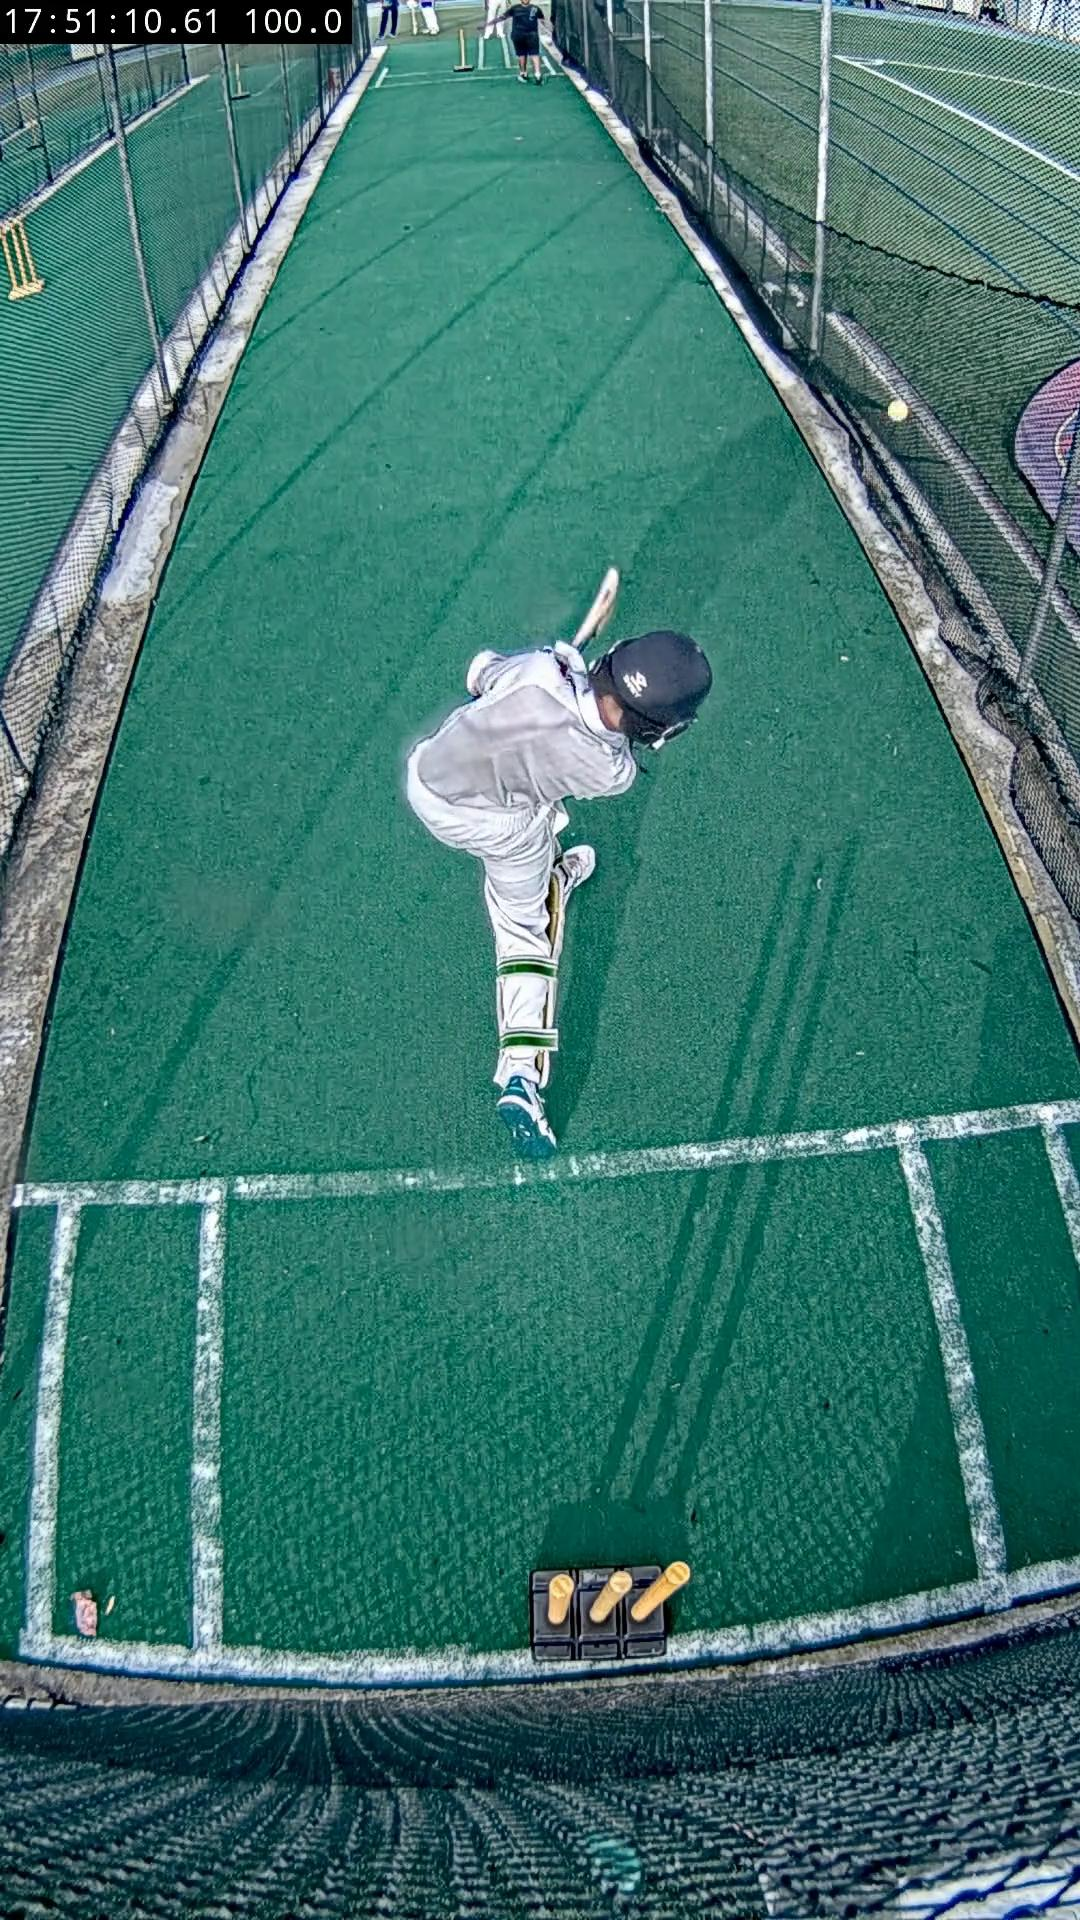ball: (885, 397, 911, 422)
bat: (570, 566, 618, 649)
helmet: (592, 630, 712, 750)
stumps: (533, 1564, 690, 1662)
